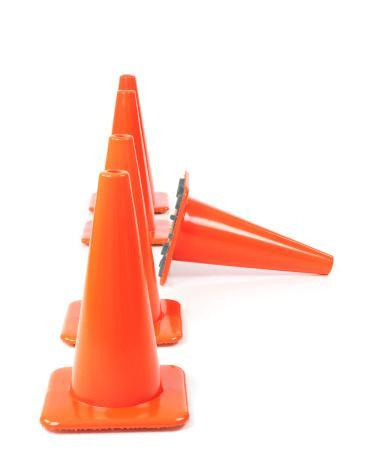Cone: (44, 171, 192, 435), (158, 172, 334, 282), (85, 90, 171, 248)
